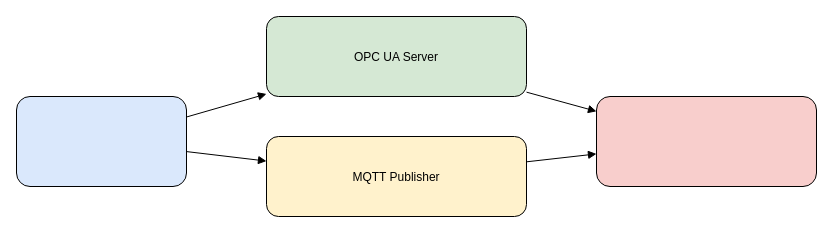
The diagram is 833 pixels wide and 233 high, and some of its shapes have lost their labels. The shapes that lost their labels are listed below. From the top down, each one's centre as x and y in pixels, then its label:
At pixel 101 141: "Vendor Machine / HMI".
At pixel 706 141: "Enterprise Ignition".
